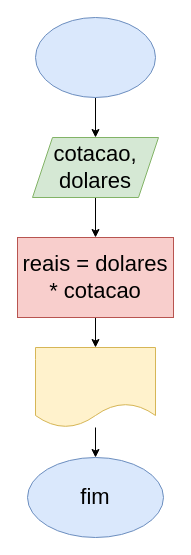
Some shapes in this 191 by 555 pixel diagram are drawn without their labels. Here are the shapes that lost their labels. From the top down, the centre of each, then its label:
[95,57]: inicio
[95,387]: reais
